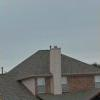Chimney: (39, 40, 77, 94)
